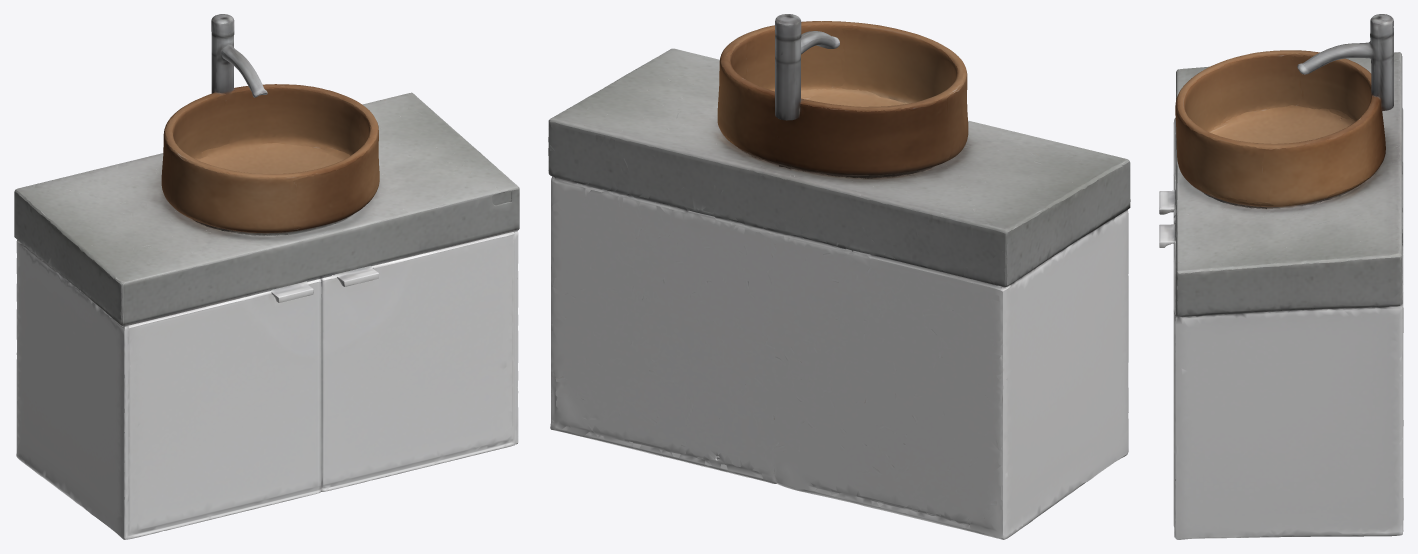
Rendered from item_4e87201a.glb.
3 renders of one model, left to right at view 1: azimuth 30°, elevation 25°; view 2: azimuth 150°, elevation 25°; view 3: azimuth 270°, elevation 25°, orthographic. The views are drawn at different scales.
Visible parts, largest first — view 1: world; view 2: world; view 3: world.
Part boxes in pixels (box(x1,y1,x2,y2)): world: box(14, 14, 519, 539); world: box(548, 14, 1130, 539); world: box(1159, 14, 1403, 539).
Size of the model in its own units: 0.4 by 0.3869 by 0.2027.
Materials: 1 (1 with a texture image).
